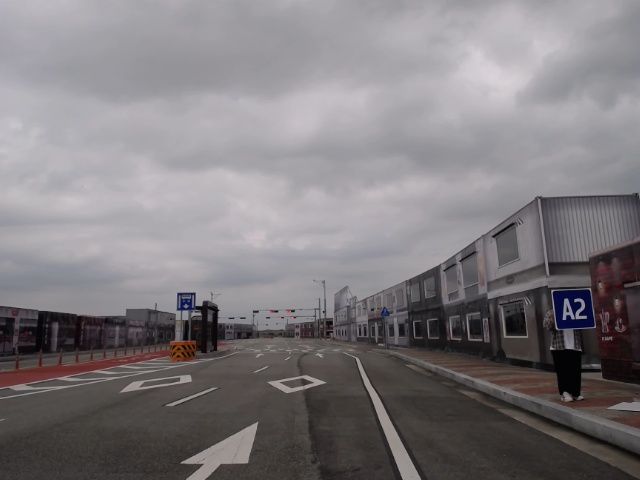delivery_a2: (552, 288, 595, 330)
